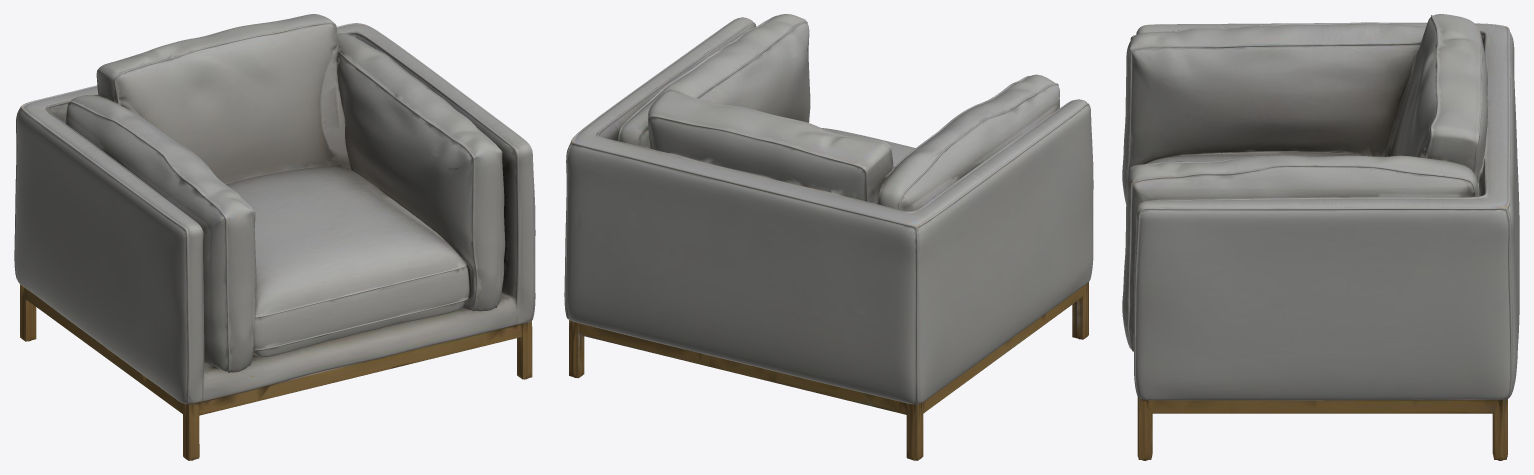
File: armchair-real-castlery-owen-armchair-natural-wood.glb
The picture shows the model from 3 angles, left to right: view 1: azimuth 30°, elevation 25°; view 2: azimuth 150°, elevation 25°; view 3: azimuth 270°, elevation 25°; orthographic projection. The views are drawn at different scales.
Parts seen in each view (by area): view 1: node_0; view 2: node_0; view 3: node_0.
Boxes of the visible parts, left/top/right/bottom form: node_0: left=14, top=14, right=535, bottom=460; node_0: left=564, top=14, right=1093, bottom=460; node_0: left=1122, top=14, right=1519, bottom=460.
Size of the model in its own units: 0.8224 by 0.6084 by 0.7238.
1 material, 1 textured.
